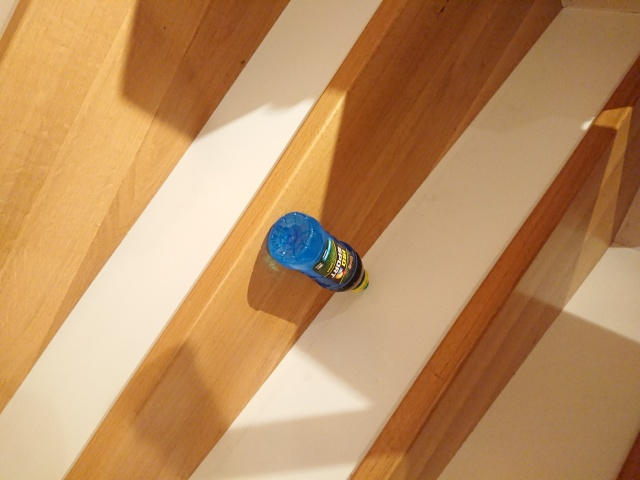Vindi Iso Sport Forest Strawberries 500mL: (265, 210, 371, 293)
